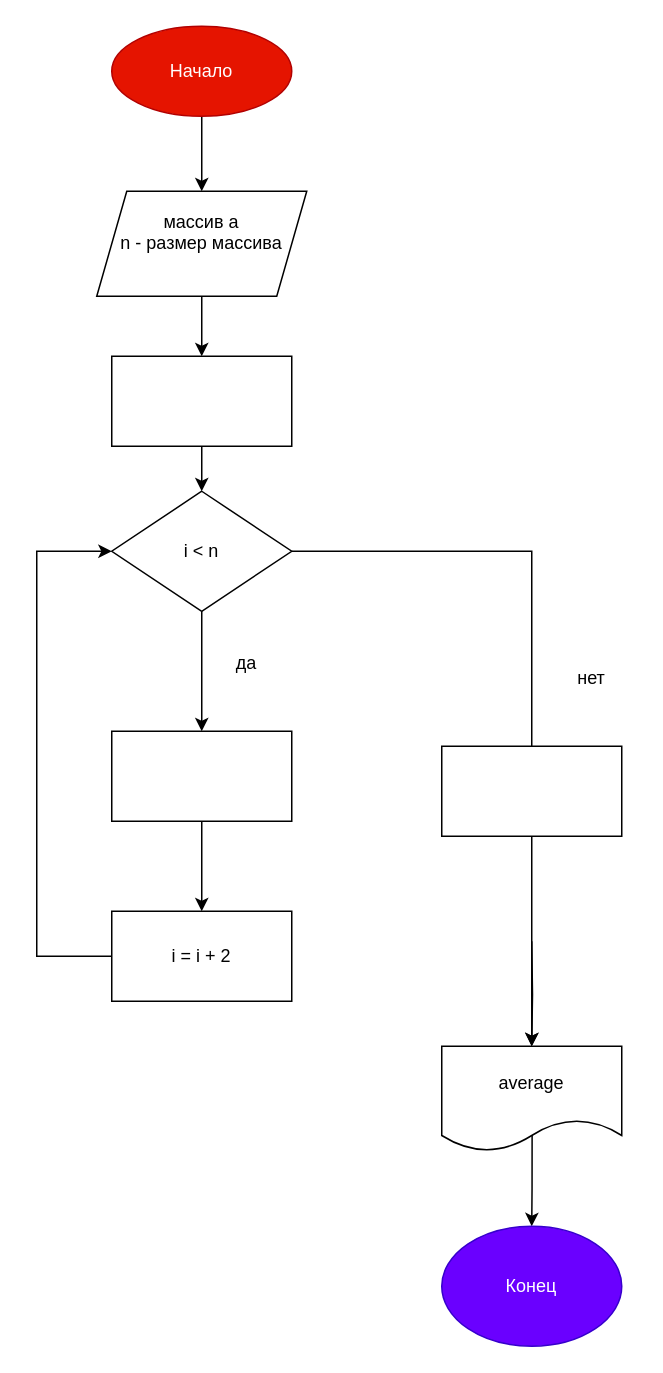
Some shapes in this 663 by 1373 pixel diagram are drawn without their labels. Each missing label, with the centre of its shape:
"average = ( 2 * s ) / i" belongs at (531,790).
"i = 1 sum = 0" belongs at (201,400).
"sum = sum + a[i]" belongs at (201,775).
